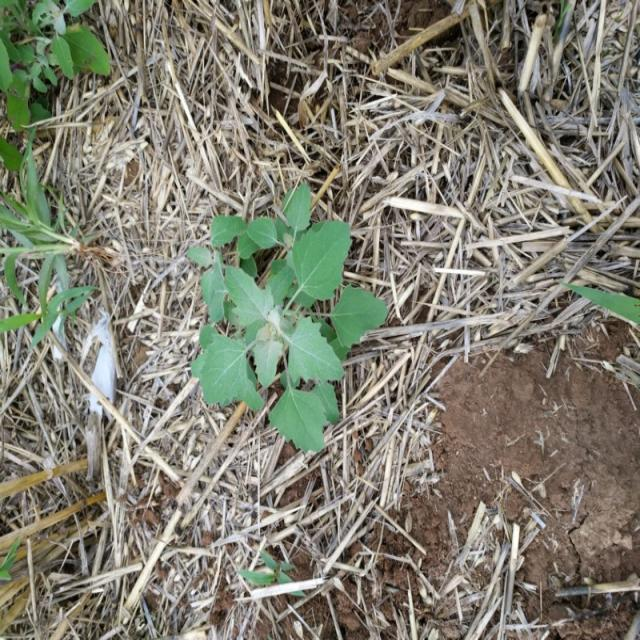goosefoots: (179, 200, 379, 467)
